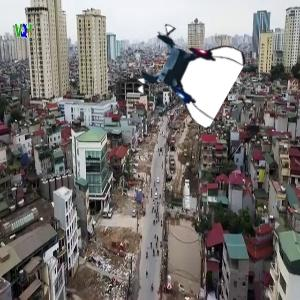drone: (140, 26, 235, 121)
